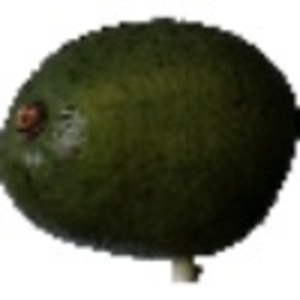abacate: (1, 14, 299, 255)
